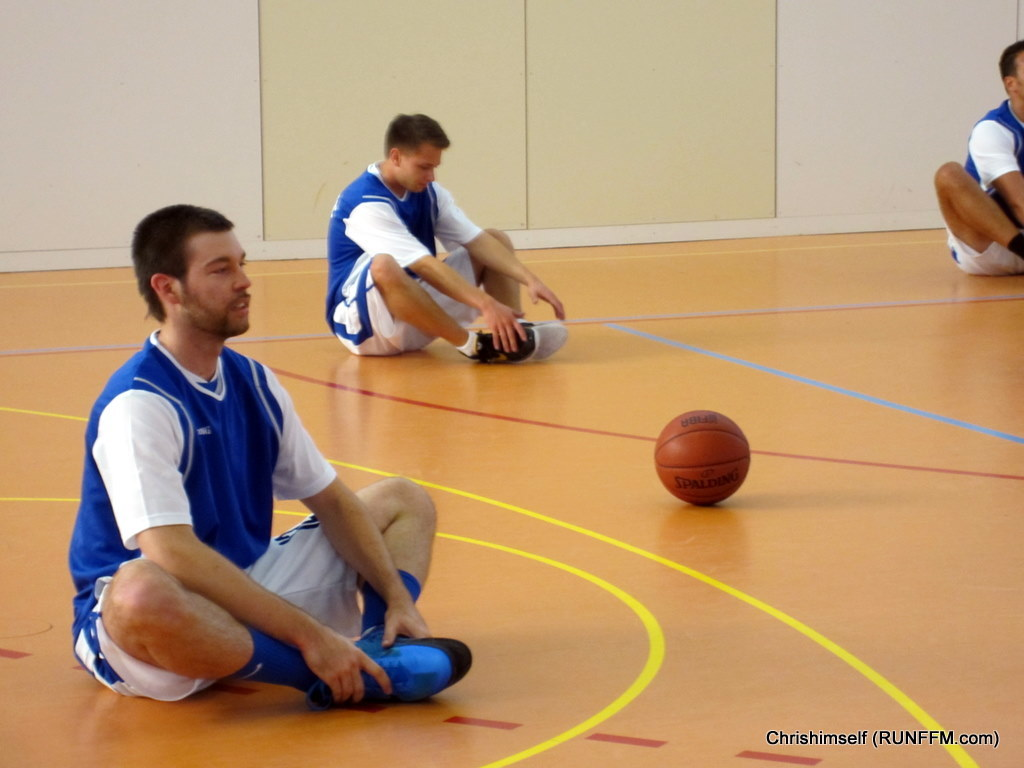Ball: (654, 408, 751, 507)
